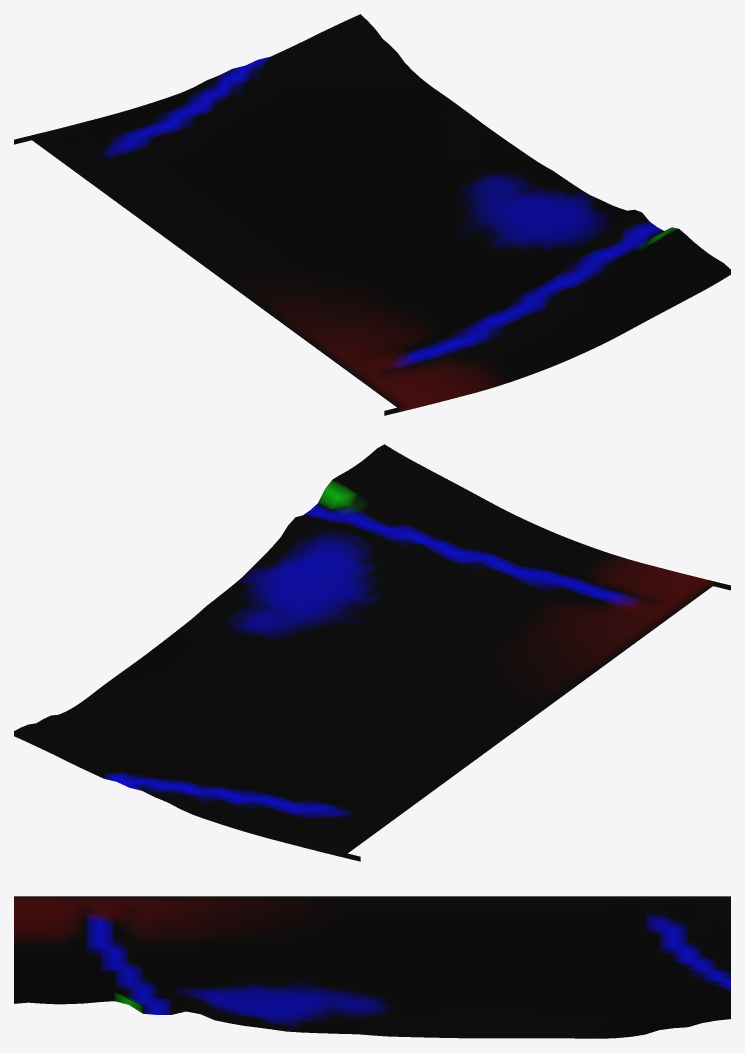
Rendered from coast_13_12.glb.
The picture shows the model from 3 angles, top to bottom: view 1: azimuth 30°, elevation 25°; view 2: azimuth 150°, elevation 25°; view 3: azimuth 270°, elevation 25°; orthographic projection. The views are drawn at different scales.
Visible parts, largest first — view 1: terrain; view 2: terrain; view 3: terrain.
Part boxes in pixels (<box>): terrain: <box>14,14,730,415</box>; terrain: <box>14,444,730,861</box>; terrain: <box>14,896,730,1038</box>.
Bounding box in the file's own units: 108 × 19.21 × 200.
